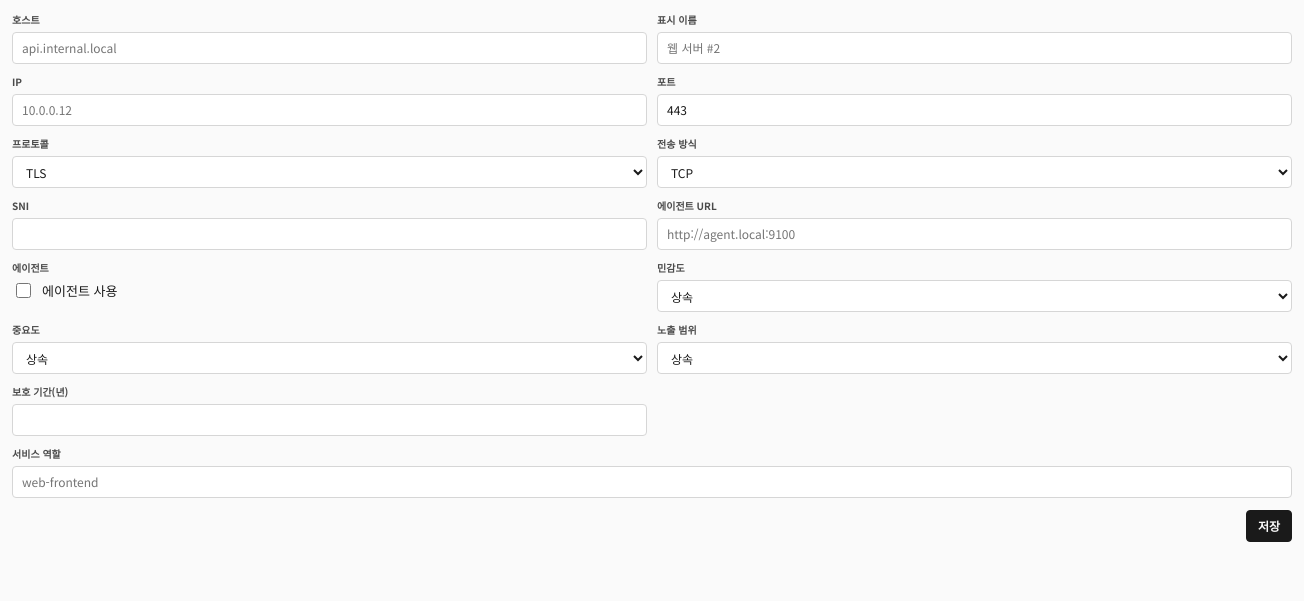
Scenario: TargetForm › lets users clear the port without coercing it to zero
Clear the number field labelled "포트" at (974, 110), box [657,94,1292,126]
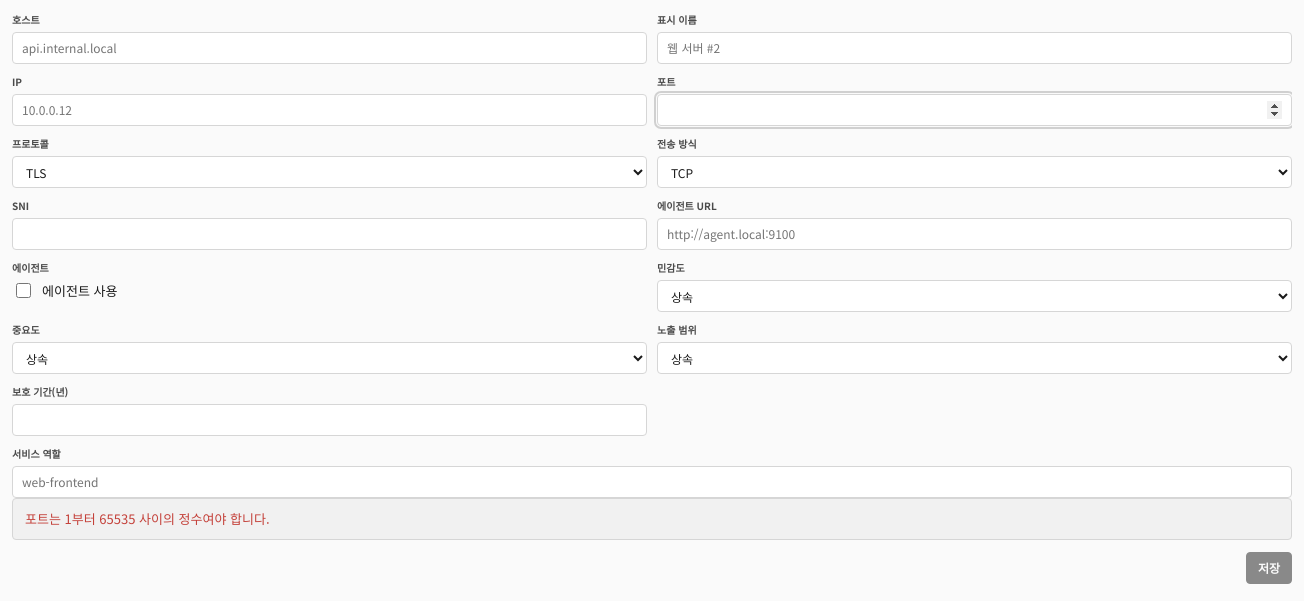
Now the message reads "포트는 1부터 65535 사이의 정수여야 합니다.", box [25,509,270,528]
Now the button "저장" is disabled, box [1246,552,1292,584]
